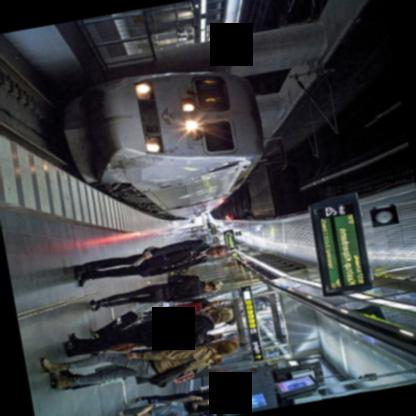backpack: (213, 388, 223, 390)
handbag: (145, 347, 211, 389)
suitcase: (91, 310, 142, 338)
